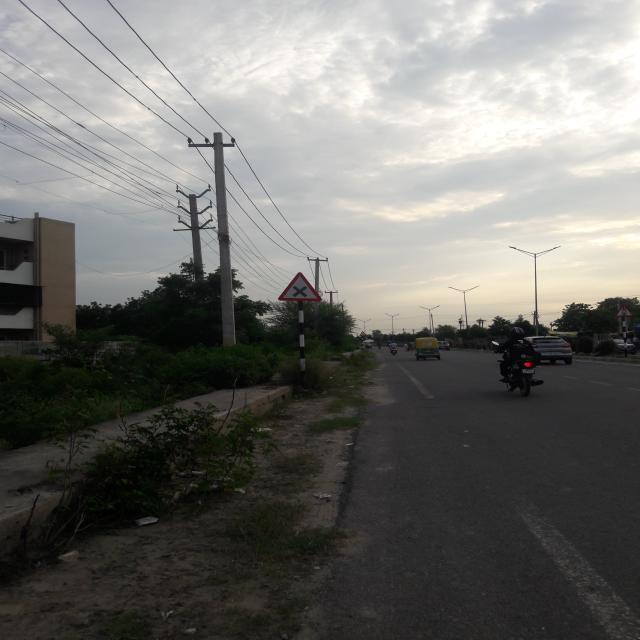cross road: (277, 272, 322, 301)
